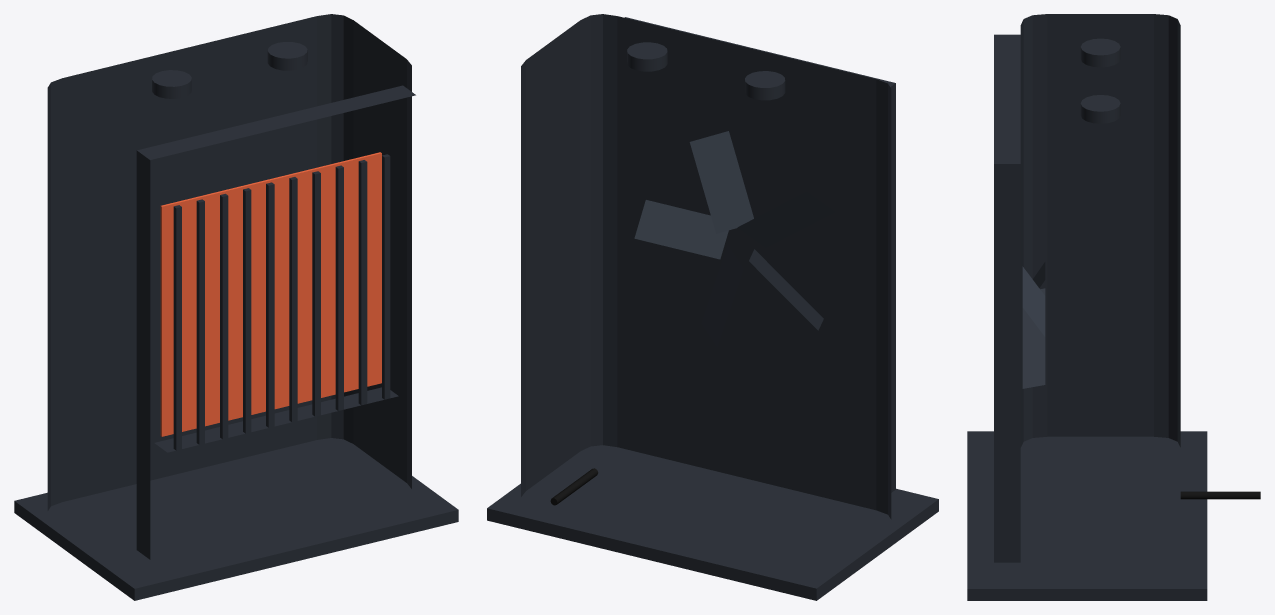
Rendered from heater-fan-2kw.glb.
3 views of the same model, side by side, from view 1: azimuth 30°, elevation 25°; view 2: azimuth 150°, elevation 25°; view 3: azimuth 270°, elevation 25° (orthographic).
Visible parts, largest first — view 1: heater_body, heater_foot, heat_element, heater_grille, heater_dial_2, heater_dial_1; view 2: heater_body, heater_foot, heater_fan_blades, heater_dial_2, heater_dial_1; view 3: heater_body, heater_foot, heater_fan_blades, heater_dial_2, heater_dial_1, heater_lead.
Boxes of the visible parts, <box> form: heater_body: <box>47,14,415,559</box>; heater_foot: <box>14,438,458,600</box>; heat_element: <box>160,152,381,436</box>; heater_grille: <box>173,154,390,450</box>; heater_dial_2: <box>267,42,307,70</box>; heater_dial_1: <box>152,70,191,98</box>; heater_body: <box>521,14,895,519</box>; heater_foot: <box>487,445,938,600</box>; heater_fan_blades: <box>634,131,834,347</box>; heater_dial_2: <box>627,42,667,71</box>; heater_dial_1: <box>745,71,785,100</box>; heater_body: <box>994,14,1180,562</box>; heater_foot: <box>967,431,1207,600</box>; heater_fan_blades: <box>1022,262,1045,388</box>; heater_dial_2: <box>1080,95,1120,123</box>; heater_dial_1: <box>1080,38,1120,67</box>; heater_lead: <box>1180,491,1260,499</box>.
Size of the model in its own units: 0.28 by 0.37 by 0.22.
